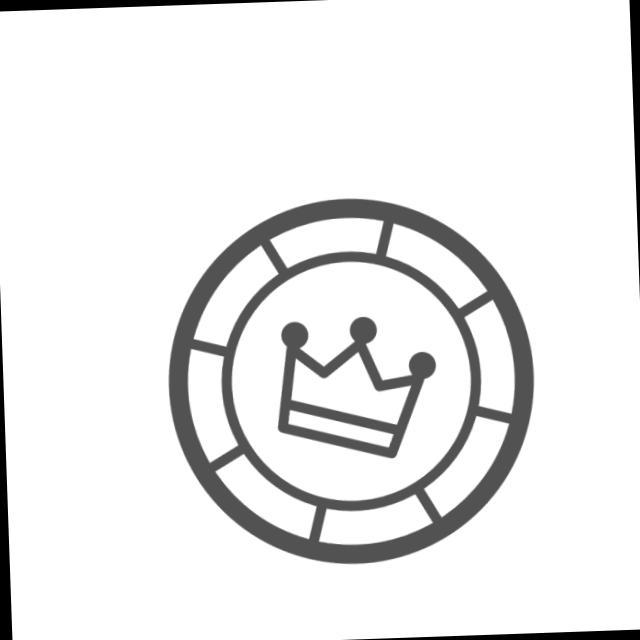coin: (151, 186, 548, 577)
